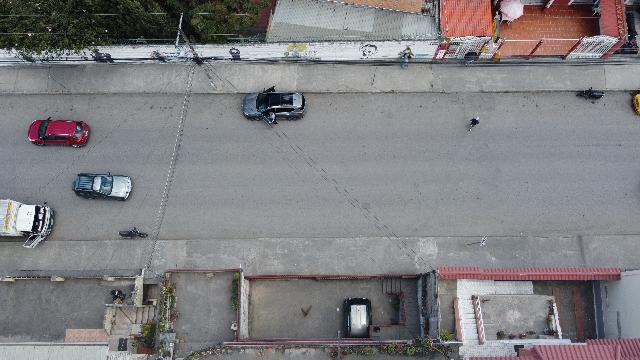Vehiculo: (242, 85, 306, 123), (28, 117, 90, 147), (72, 172, 132, 202)
